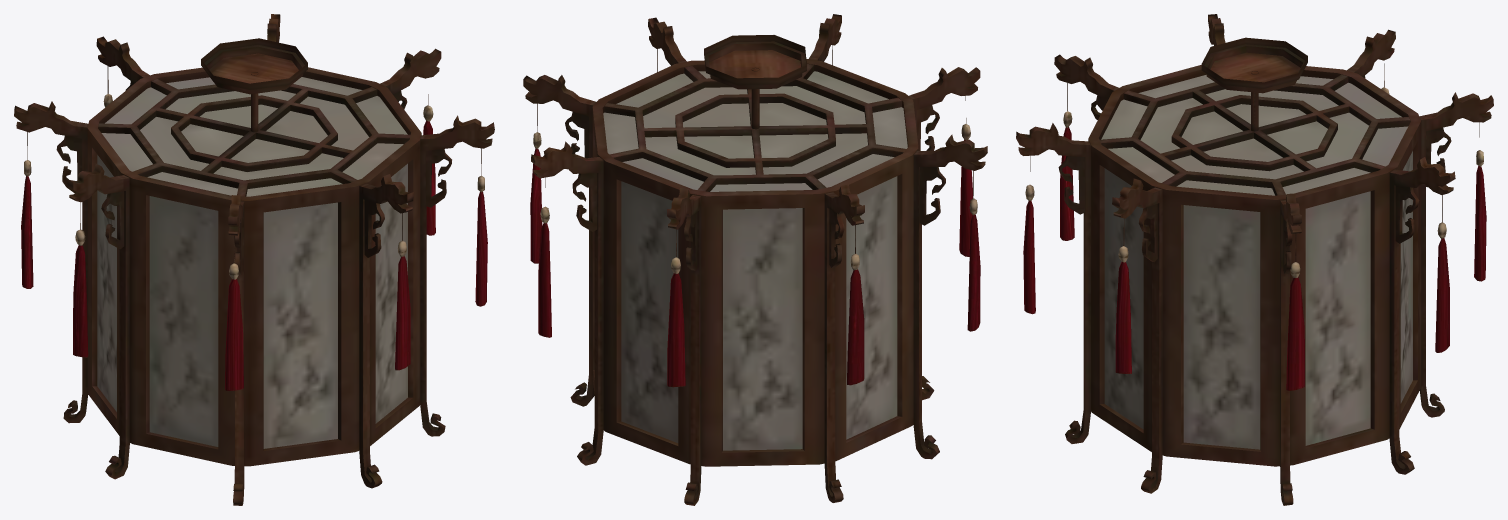
Rendered from chinese-chandelier.glb.
The picture shows the model from 3 angles, left to right: view 1: azimuth 30°, elevation 25°; view 2: azimuth 150°, elevation 25°; view 3: azimuth 270°, elevation 25°; orthographic projection.
Visible parts, largest first — view 1: chinese_chandelier; view 2: chinese_chandelier; view 3: chinese_chandelier.
Boxes of the visible parts, box(x1,y1,x2,y2) form: chinese_chandelier: box(14, 14, 494, 505); chinese_chandelier: box(523, 14, 987, 505); chinese_chandelier: box(1016, 14, 1493, 505).
Bounding box in the file's own units: 0.8777 × 0.7478 × 0.878.
1 material, 1 textured.
